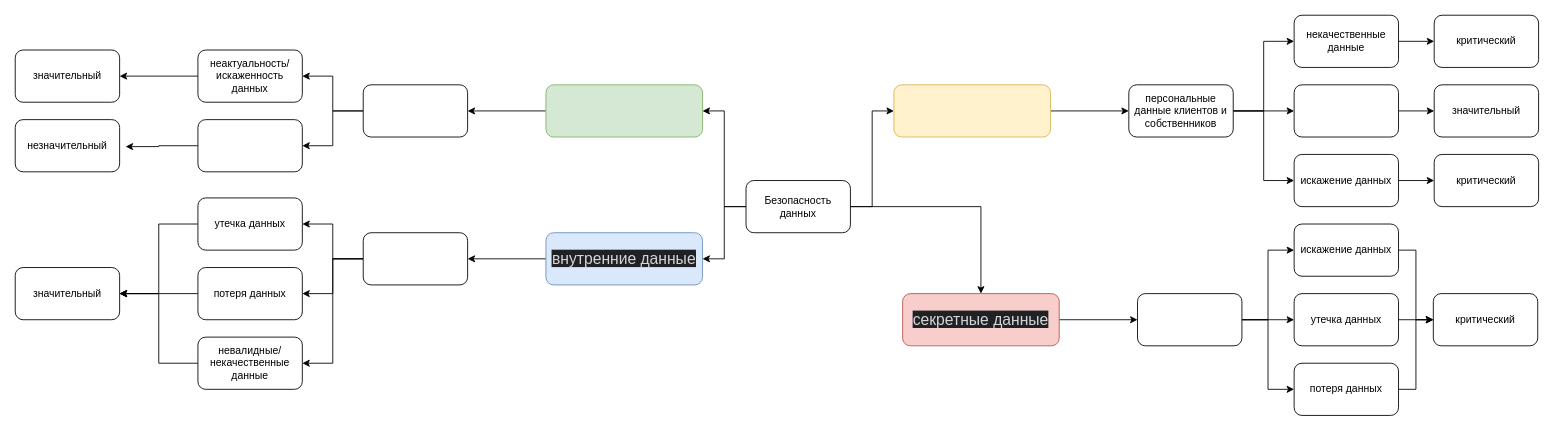
Some shapes in this 1554 by 431 pixel diagram are drawn without their labels. Here are the shapes that lost their labels. From the top down, the centre of each, then its label:
point (415, 110): - маркетинговые материалы - витрина продаж
point (624, 110): публичные данные
point (972, 110): конфиденциальные данные
point (1346, 110): утечка днных
point (249, 145): обесцениевае данных
point (415, 258): внутренние отчеты и документация
point (1189, 319): паспортные, финансовые и авторизационные данные
